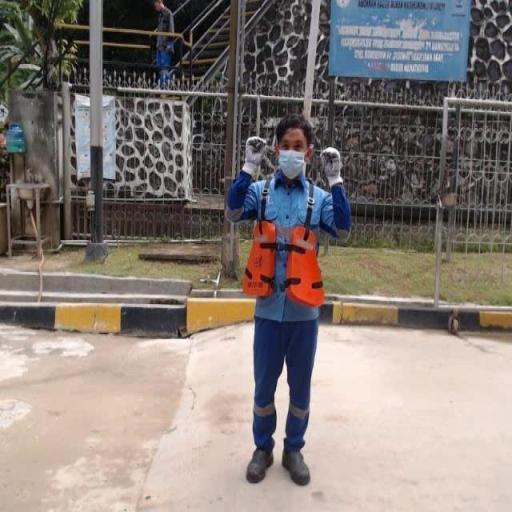Boots: (280, 444, 312, 487), (244, 443, 274, 485)
Person: (212, 103, 366, 491)
